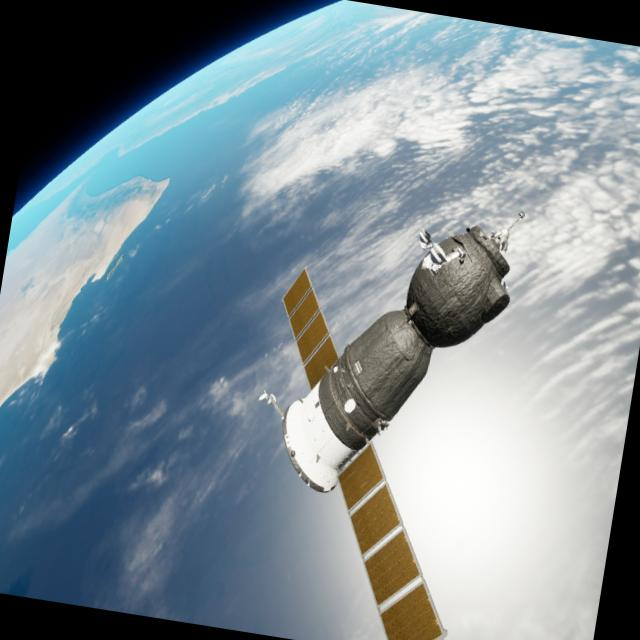Satellites revolving around earth: (247, 173, 528, 522)
